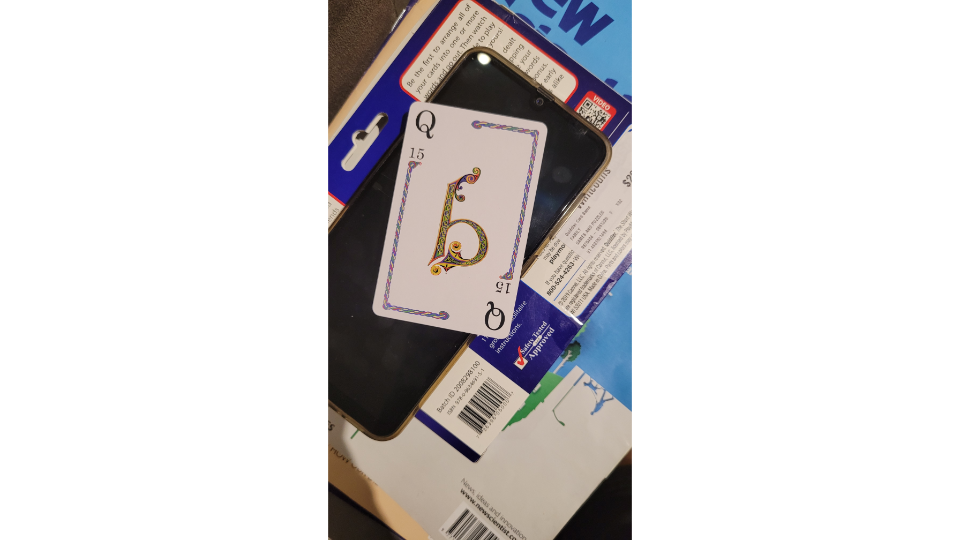Q: (369, 97, 551, 341)
